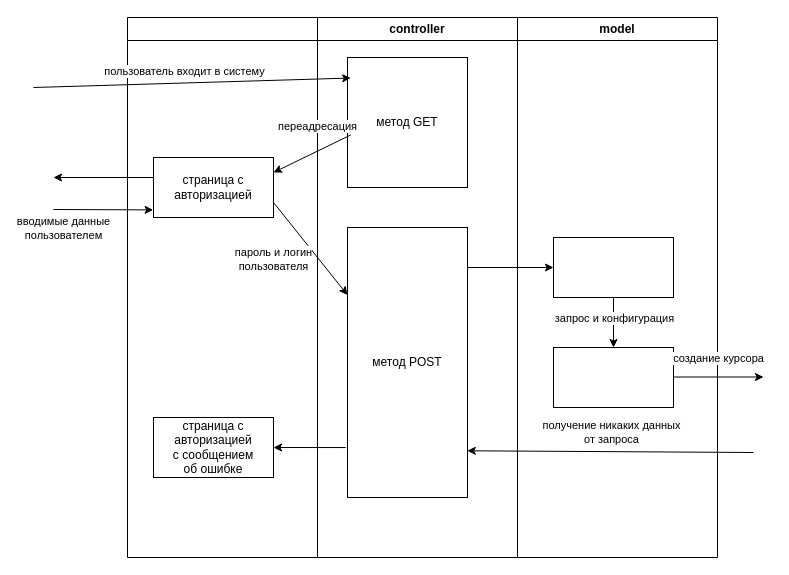
Some shapes in this 789 by 575 pixel diagram are drawn without their labels. The shapes that lost their labels are listed below. From the top down, each one's box as (x1, y1, x2, y2) in pixels, then its label:
(126, 16, 318, 558): viewer
(552, 236, 674, 298): вставление данных в запрос с помощью provider
(552, 346, 674, 408): попытка подлючения к ИС
